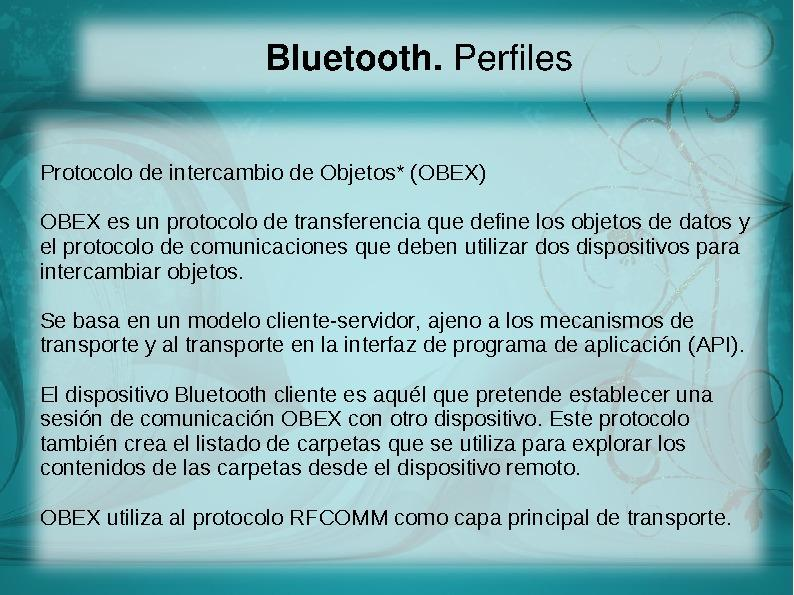paragraph: (27, 150, 761, 548)
title: (259, 27, 577, 89)
